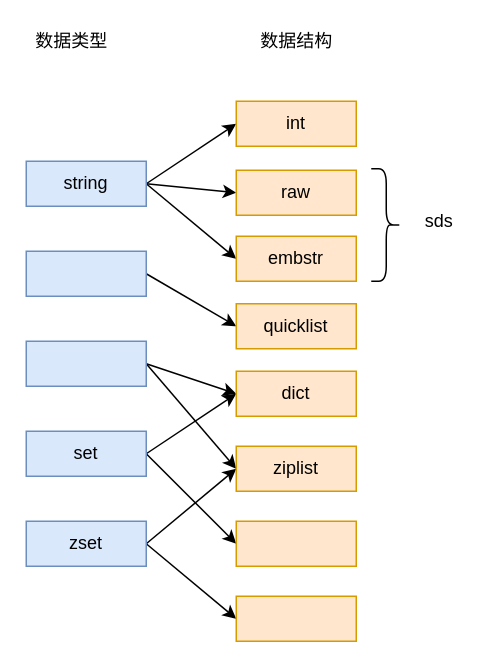
Some shapes in this 488 by 668 pixel diagram are drawn without their labels. Each missing label, with the centre of its shape:
hash: point 85,363
intset: point 295,543
list: point 85,273
skiplist+dict: point 295,618
